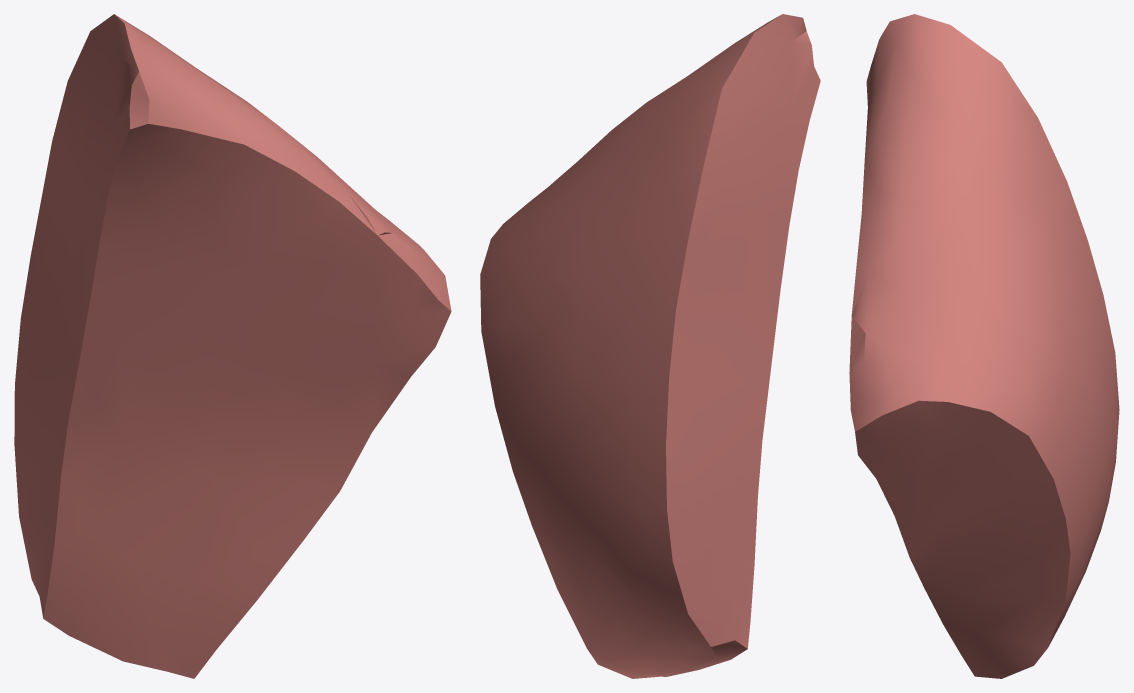
File: fma301573_mm3997.glb
3 views of the same model, side by side, from view 1: azimuth 30°, elevation 25°; view 2: azimuth 150°, elevation 25°; view 3: azimuth 270°, elevation 25° (orthographic). The views are drawn at different scales.
Parts seen in each view (by area): view 1: FMA301573_MM3997; view 2: FMA301573_MM3997; view 3: FMA301573_MM3997.
Boxes of the visible parts, x1=… form: FMA301573_MM3997: x1=14, y1=14, x2=451, y2=678; FMA301573_MM3997: x1=480, y1=14, x2=820, y2=678; FMA301573_MM3997: x1=849, y1=14, x2=1119, y2=678.
Bounding box in the file's own units: 0.012 × 0.025 × 0.0099.
